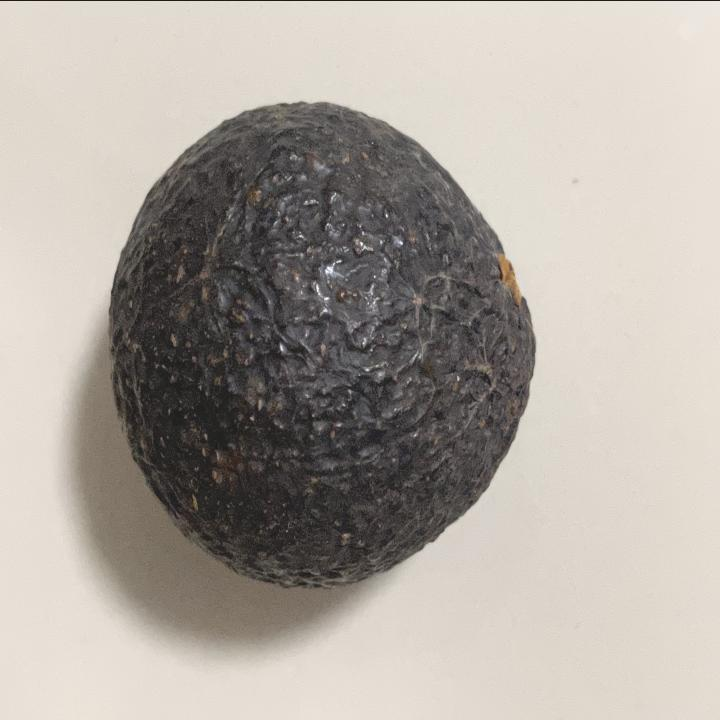Level2: (103, 93, 544, 596)
